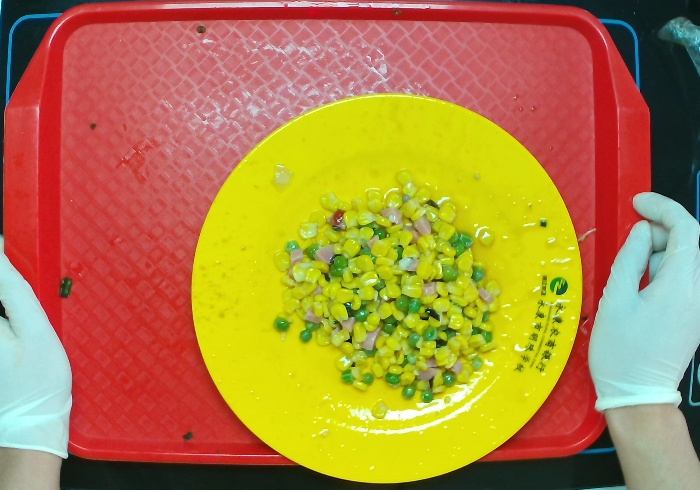YKMZ-Huang_Se_Mian_Pan: (189, 91, 585, 484)
